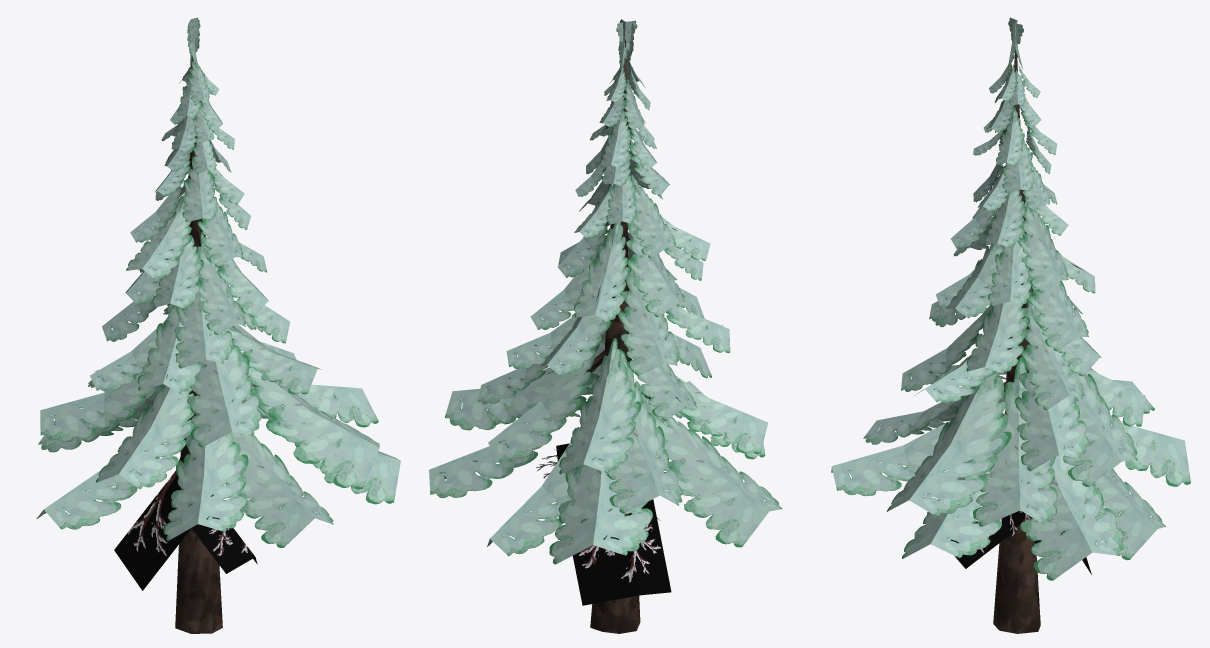
File: pine_tree_l_1.fbx
The picture shows the model from 3 angles, left to right: view 1: azimuth 30°, elevation 25°; view 2: azimuth 150°, elevation 25°; view 3: azimuth 270°, elevation 25°; orthographic projection.
Visible parts, largest first — view 1: pine__tree_l_1; view 2: pine__tree_l_1; view 3: pine__tree_l_1.
Boxes of the visible parts, x1,y1,x2,y2 form: pine__tree_l_1: [36, 17, 400, 633]; pine__tree_l_1: [429, 19, 782, 633]; pine__tree_l_1: [831, 17, 1190, 633].
Bounding box in the file's own units: 290 × 505 × 277.
